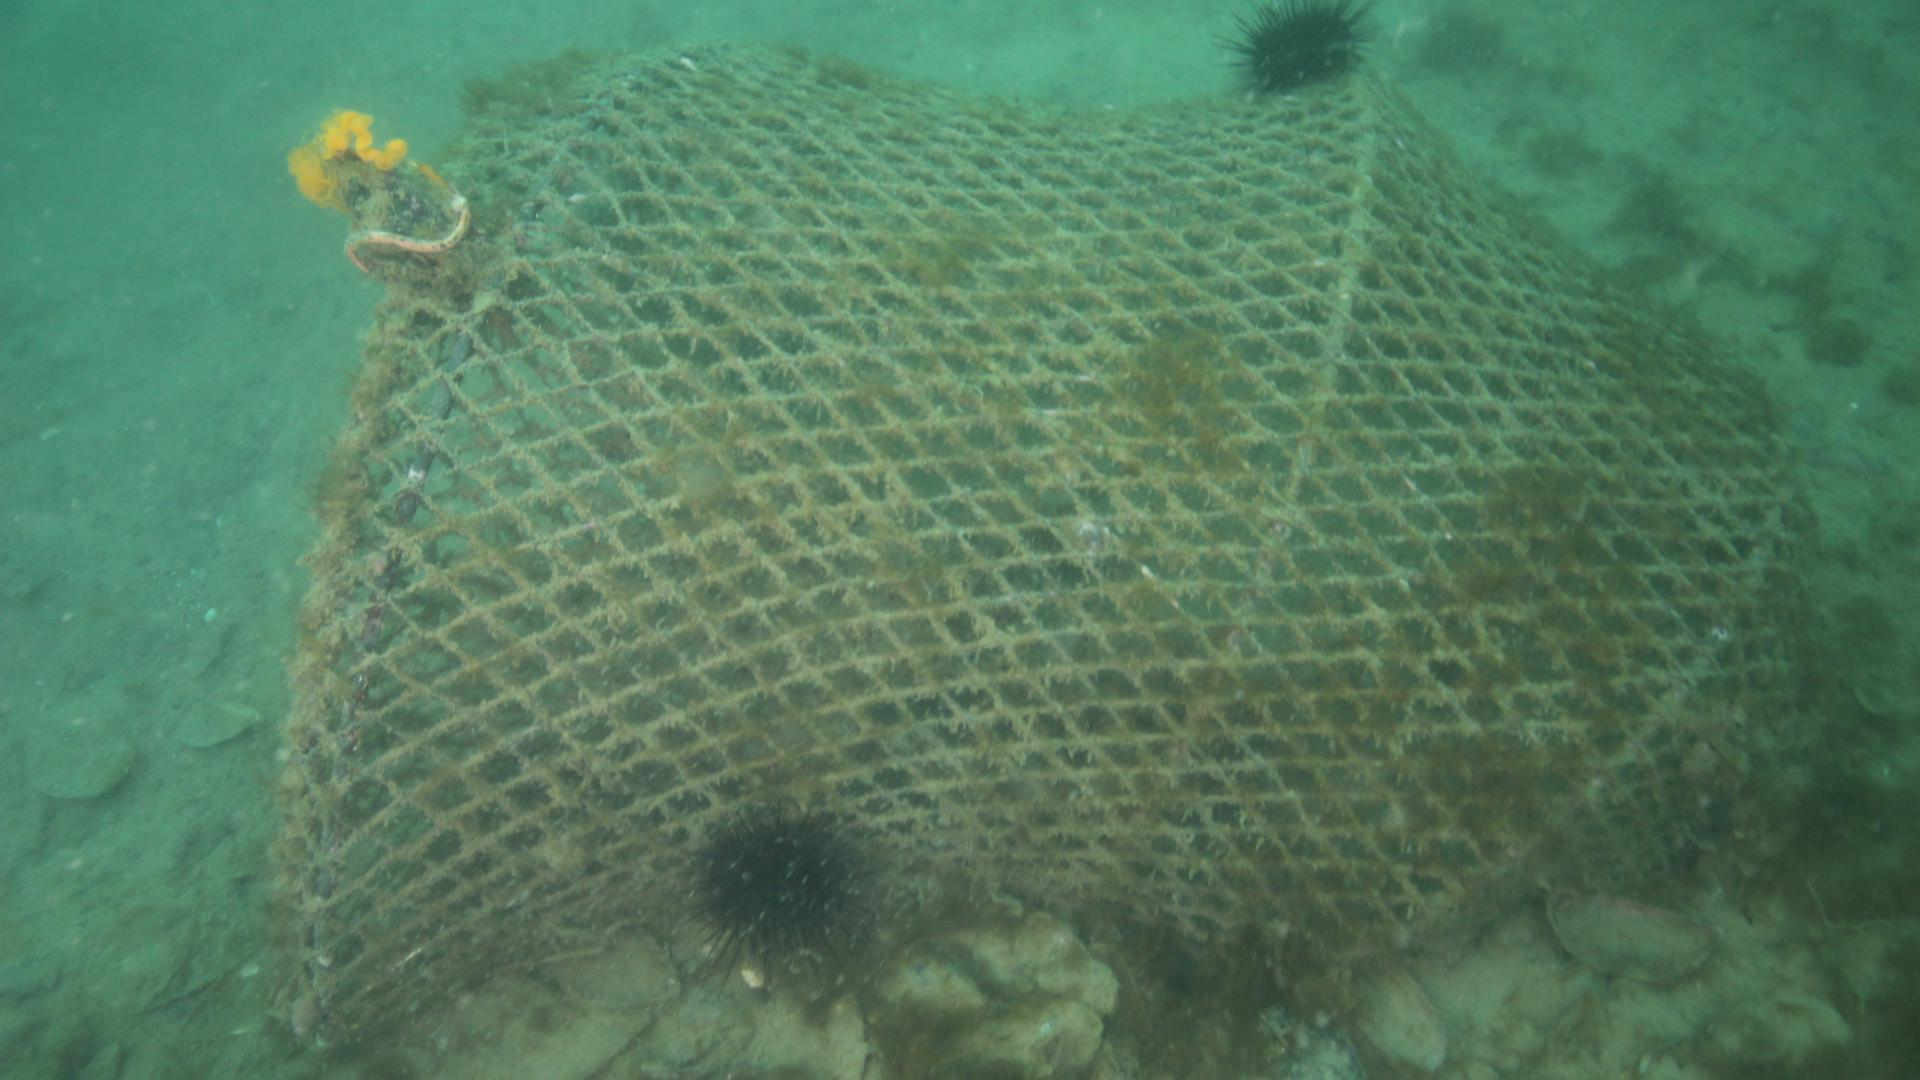spring fish trap: (260, 38, 1822, 1059)
